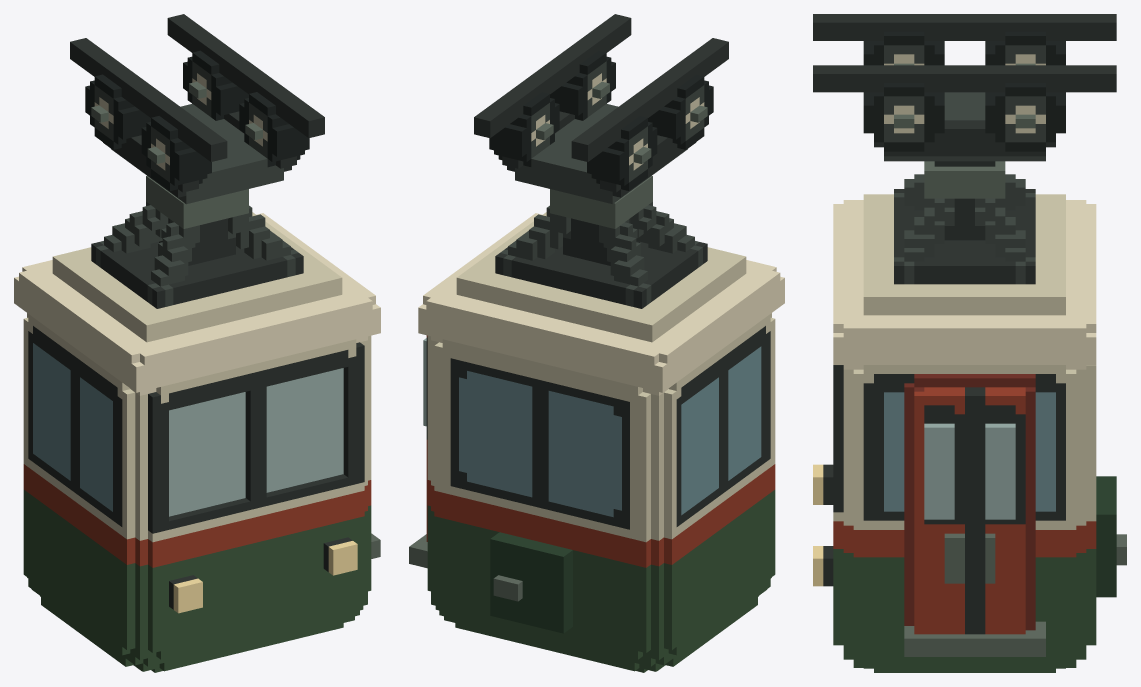
File: cable_car.glb
3 views of the same model, side by side, from view 1: azimuth 30°, elevation 25°; view 2: azimuth 150°, elevation 25°; view 3: azimuth 270°, elevation 25° (orthographic). The views are drawn at different scales.
Visible parts, largest first — view 1: cable_car; view 2: cable_car; view 3: cable_car.
Part boxes in pixels (x1,y1,x2,y2): cable_car: [14, 14, 380, 672]; cable_car: [409, 14, 784, 672]; cable_car: [813, 14, 1126, 672].
Bounding box in the file's own units: 3.74 × 6.93 × 3.41.
